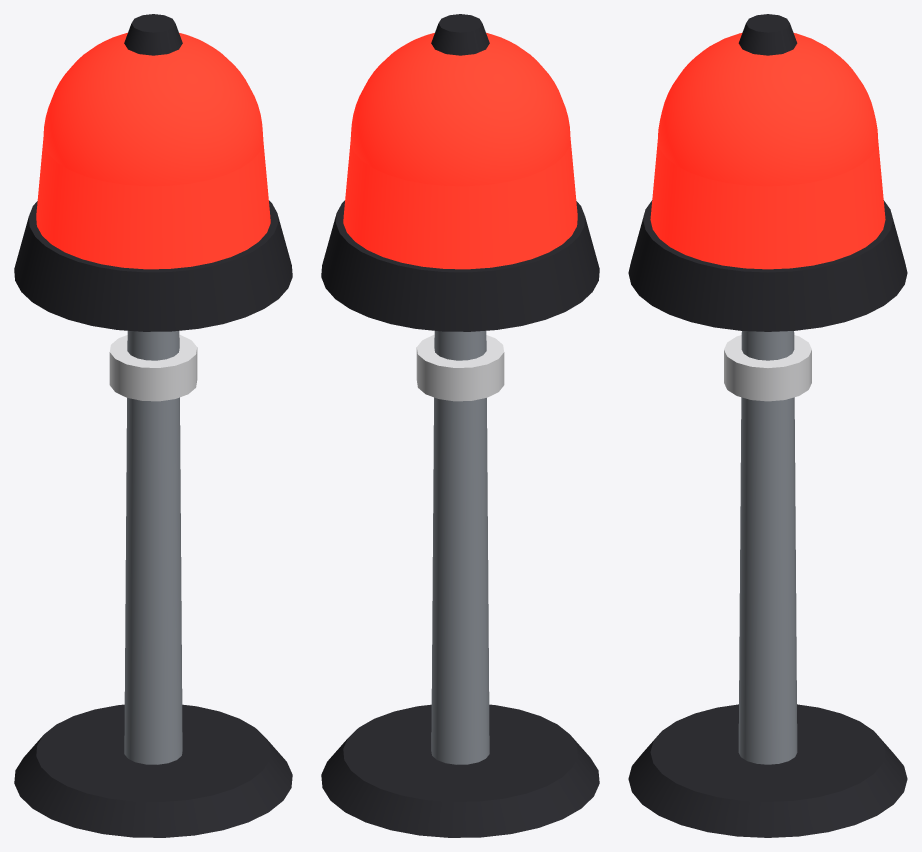
Rendered from dps-beacon.glb.
3 renders of one model, left to right at view 1: azimuth 30°, elevation 25°; view 2: azimuth 150°, elevation 25°; view 3: azimuth 270°, elevation 25°, orthographic.
Visible parts, largest first — view 1: dps-beacon; view 2: dps-beacon; view 3: dps-beacon.
Part boxes in pixels (bbox=[...]): dps-beacon: bbox=[14, 14, 292, 837]; dps-beacon: bbox=[321, 14, 599, 837]; dps-beacon: bbox=[628, 14, 907, 837].
Bounding box in the file's own units: 0.38 × 1.13 × 0.38.
